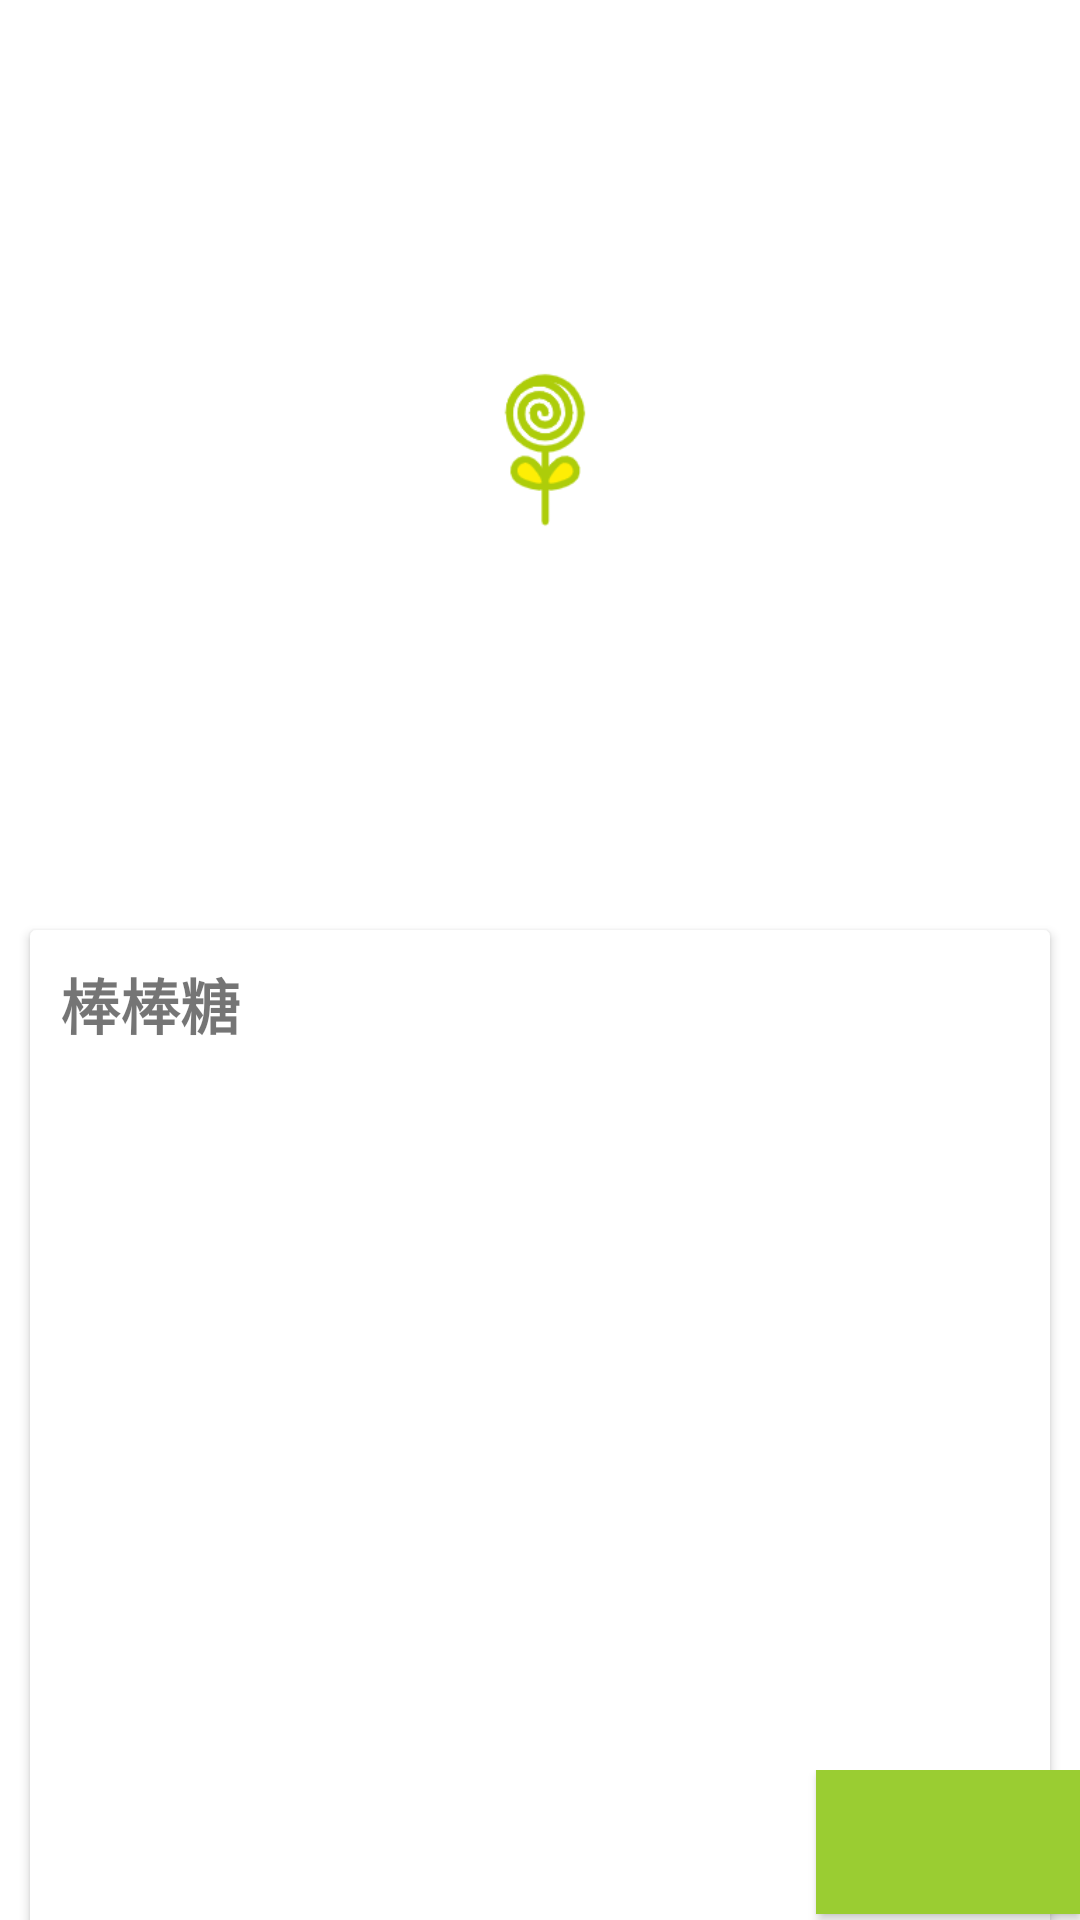

Named icons in this screenshot (1080 × 1920) and their centers, point (x, y):
lollipop: point (545, 450)
